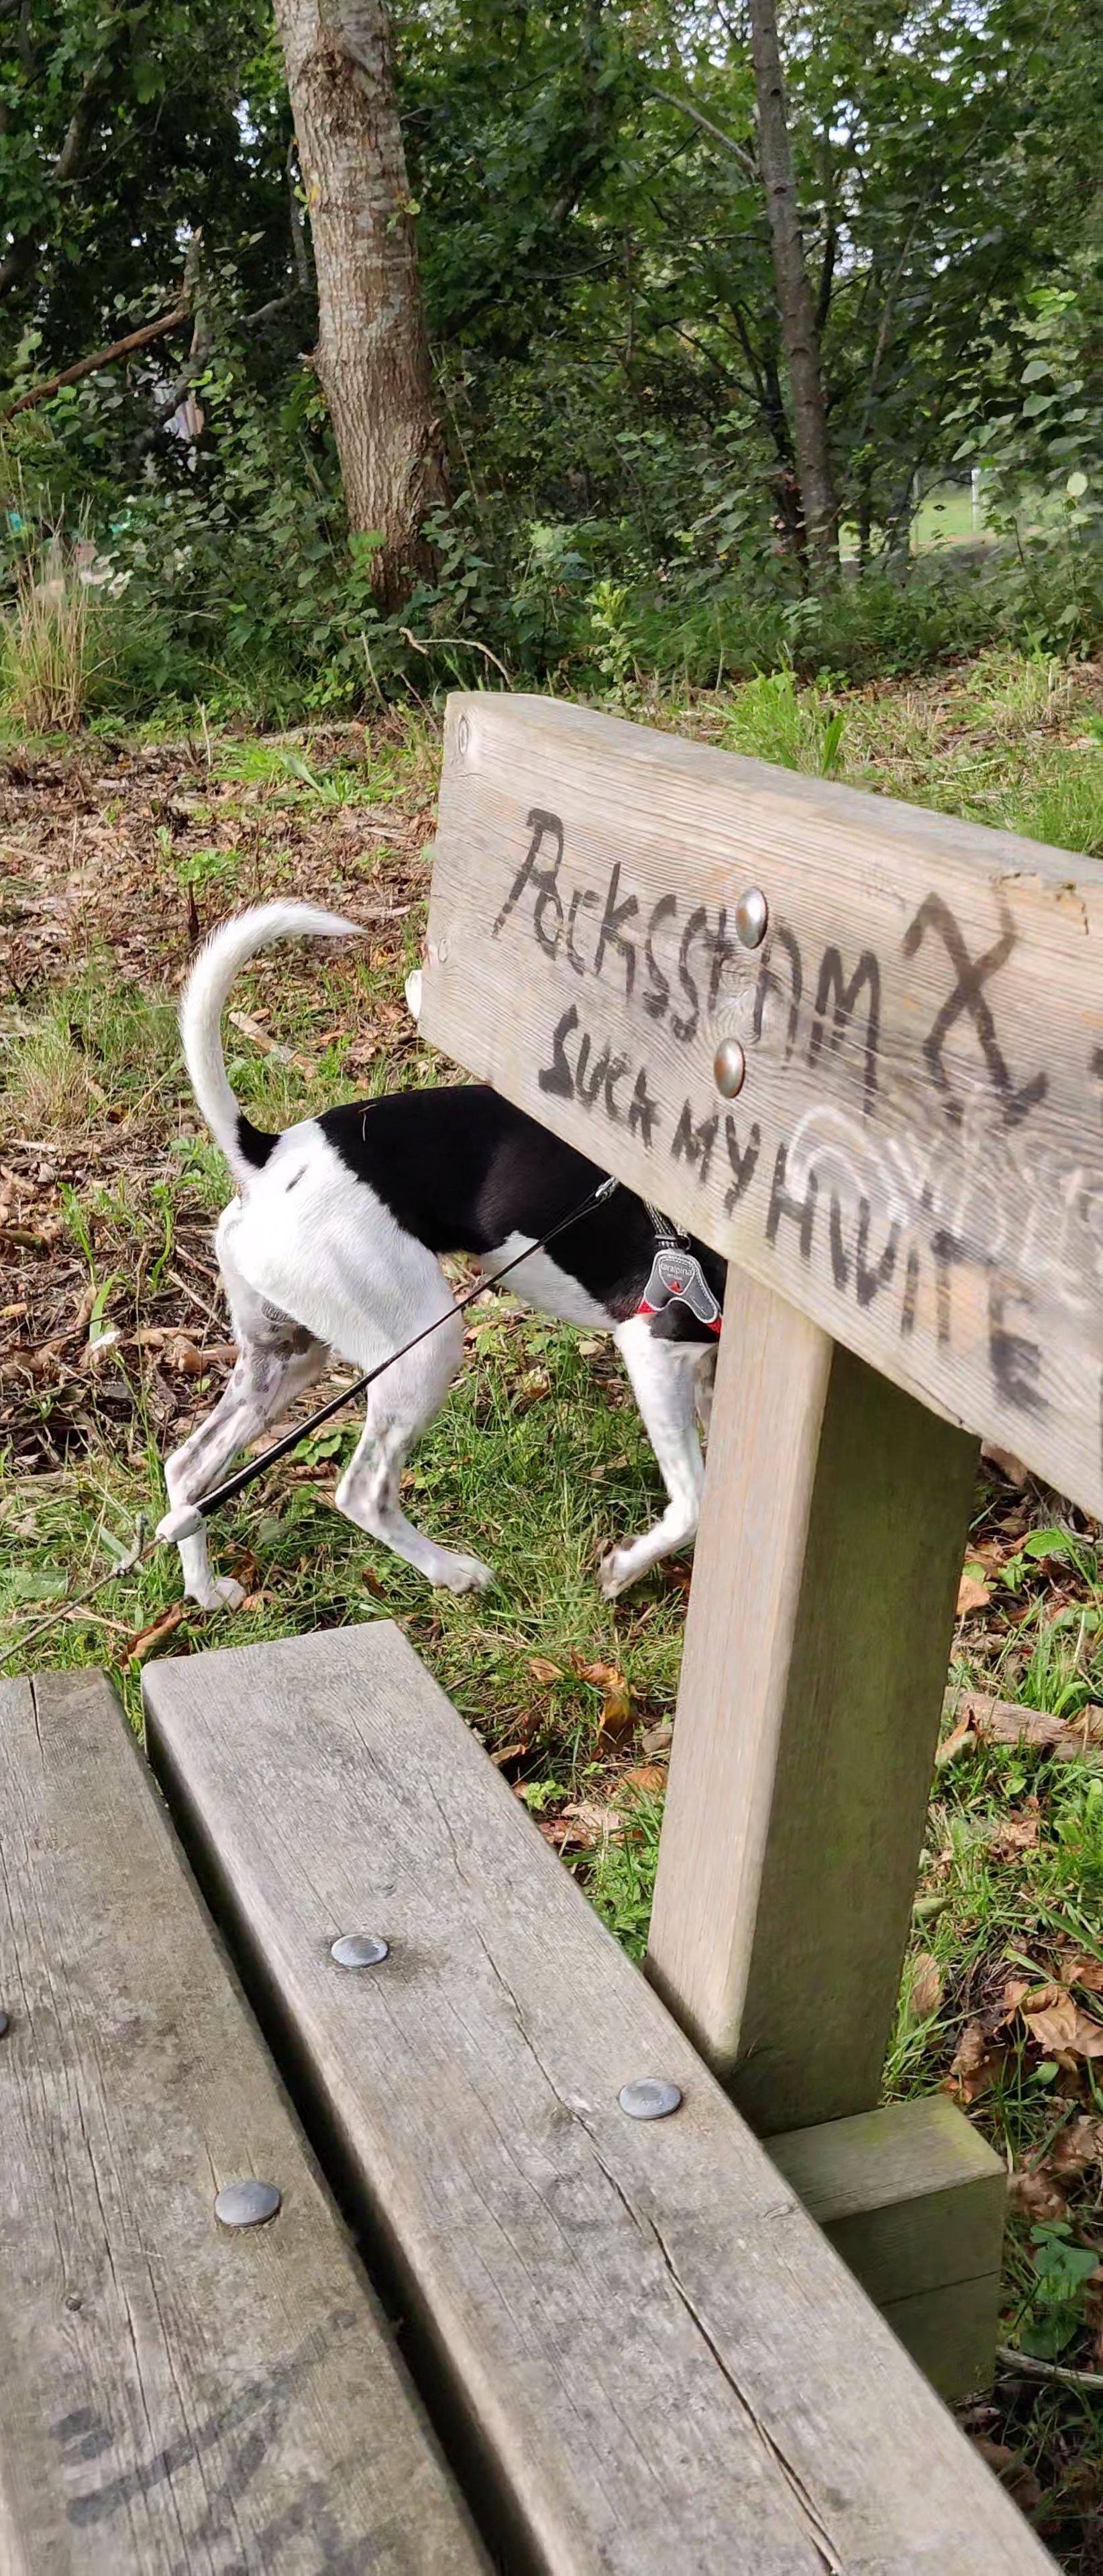Dog: (161, 885, 738, 1630)
